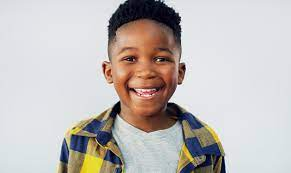person: (101, 1, 186, 118)
